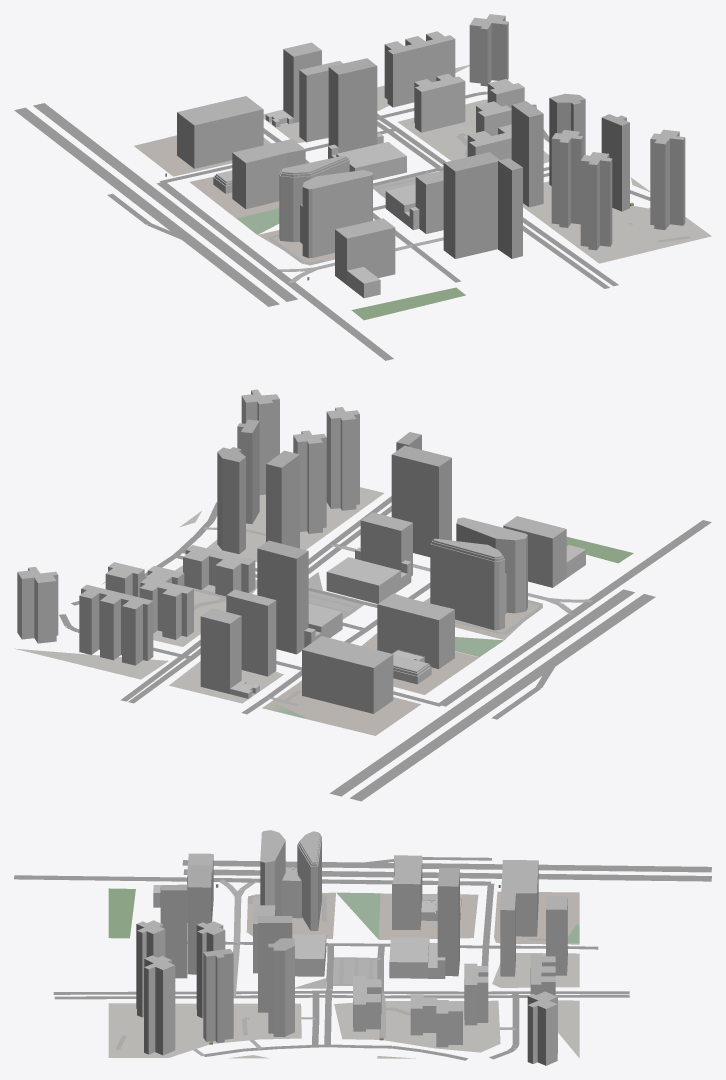
3 views of the same model, one above another, from view 1: azimuth 30°, elevation 25°; view 2: azimuth 150°, elevation 25°; view 3: azimuth 270°, elevation 25° (orthographic). The views are drawn at different scales.
Size of the model in its own units: 520 by 106 by 741.
